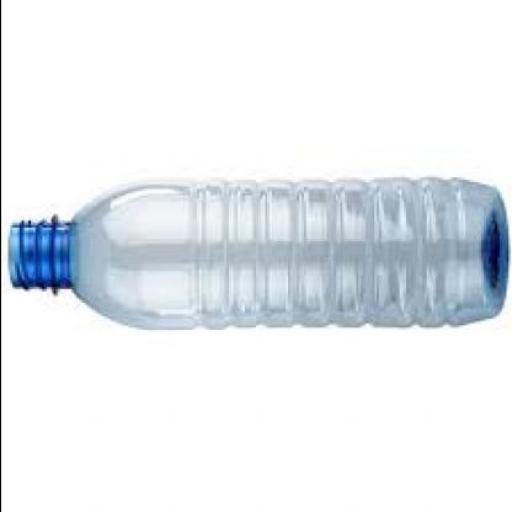plastic: (7, 177, 505, 335)
